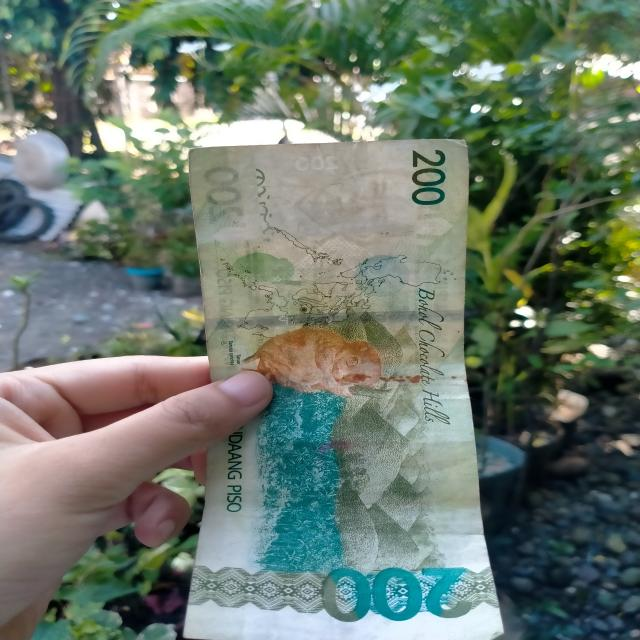security_thread: (198, 310, 464, 328)
see_through_mark: (241, 167, 282, 258)
value: (311, 559, 484, 624)
value_watermark: (285, 154, 343, 172)
watermark: (253, 161, 421, 264)
